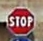stop: (5, 6, 36, 35)
